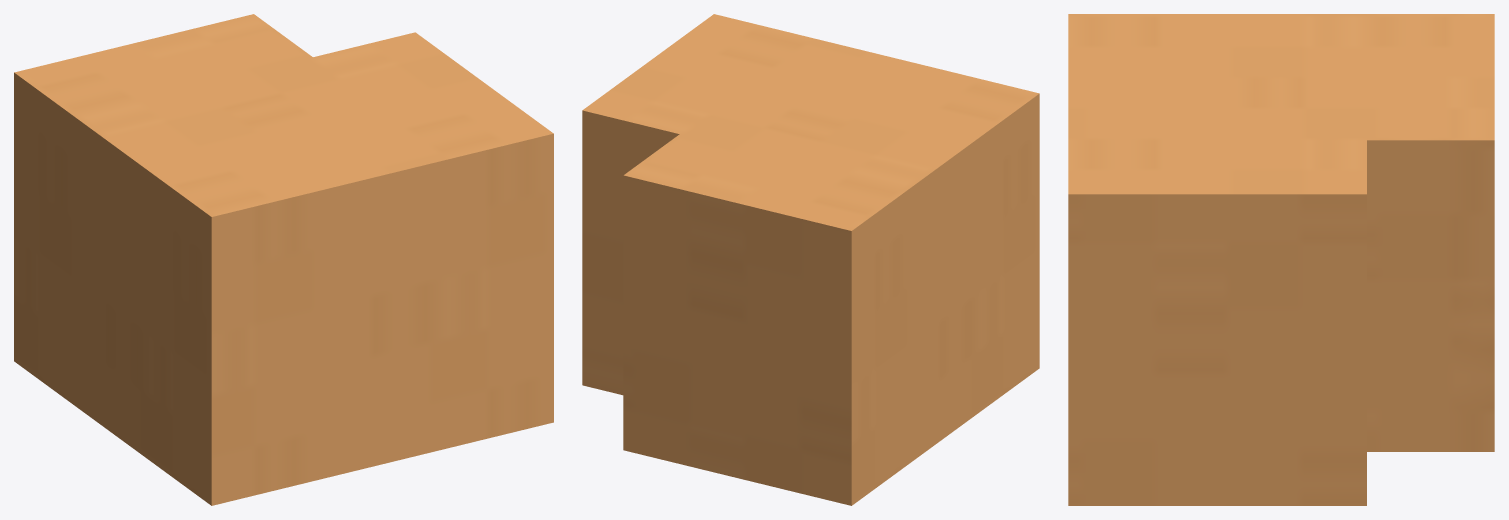
File: CabinetBCorner02.glb
The picture shows the model from 3 angles, left to right: view 1: azimuth 30°, elevation 25°; view 2: azimuth 150°, elevation 25°; view 3: azimuth 270°, elevation 25°; orthographic projection. The views are drawn at different scales.
Visible parts, largest first — view 1: CabinetBCorner02_model; view 2: CabinetBCorner02_model; view 3: CabinetBCorner02_model.
Part boxes in pixels (x1=…): CabinetBCorner02_model: x1=14, y1=14, x2=553, y2=505; CabinetBCorner02_model: x1=582, y1=14, x2=1039, y2=505; CabinetBCorner02_model: x1=1068, y1=14, x2=1494, y2=505.
Size of the model in its own units: 1.72 by 1.39 by 1.72.
Materials: 1 (1 with a texture image).
